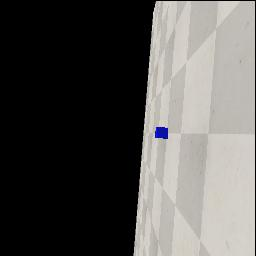box: (155, 127, 168, 139)
